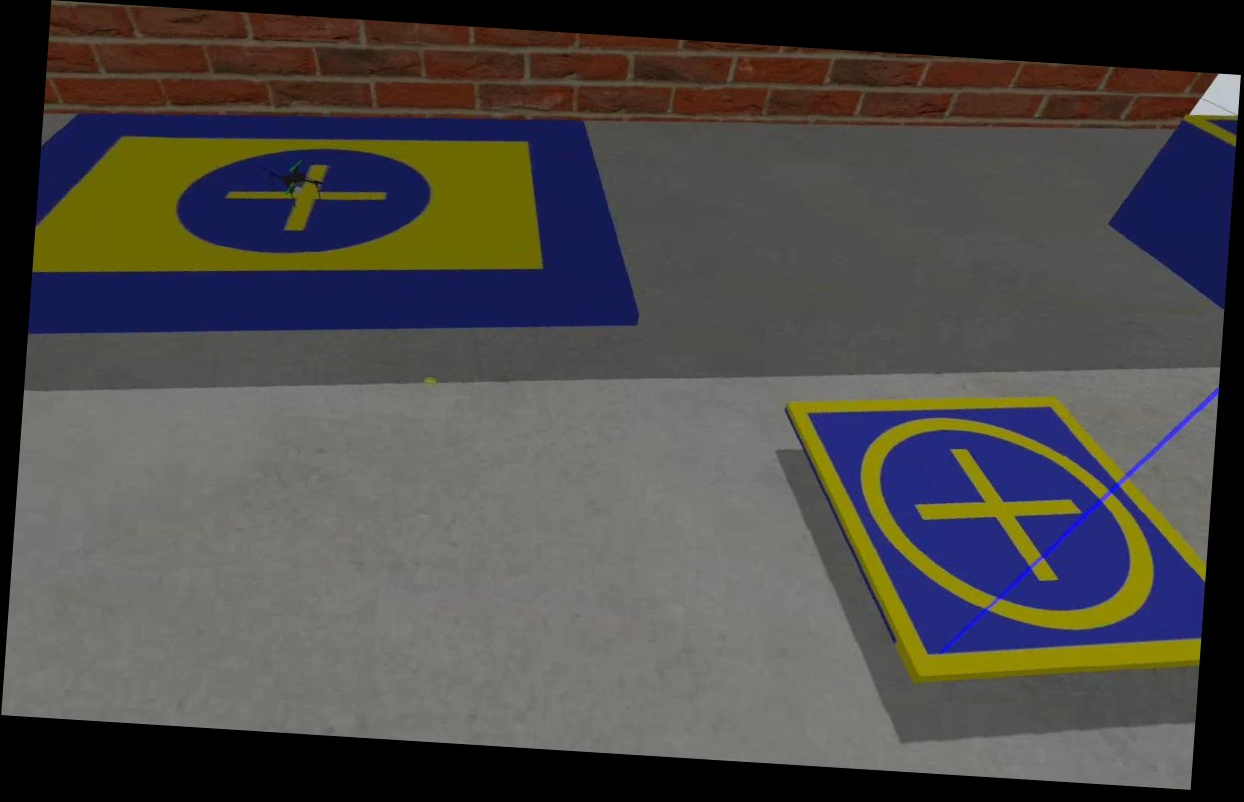large_base: (28, 89, 650, 373)
small_base: (767, 382, 1220, 700)
